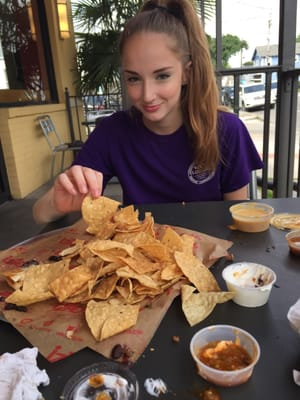sushi: (189, 324, 261, 388), (222, 261, 276, 308), (228, 202, 275, 233), (285, 229, 300, 258)
